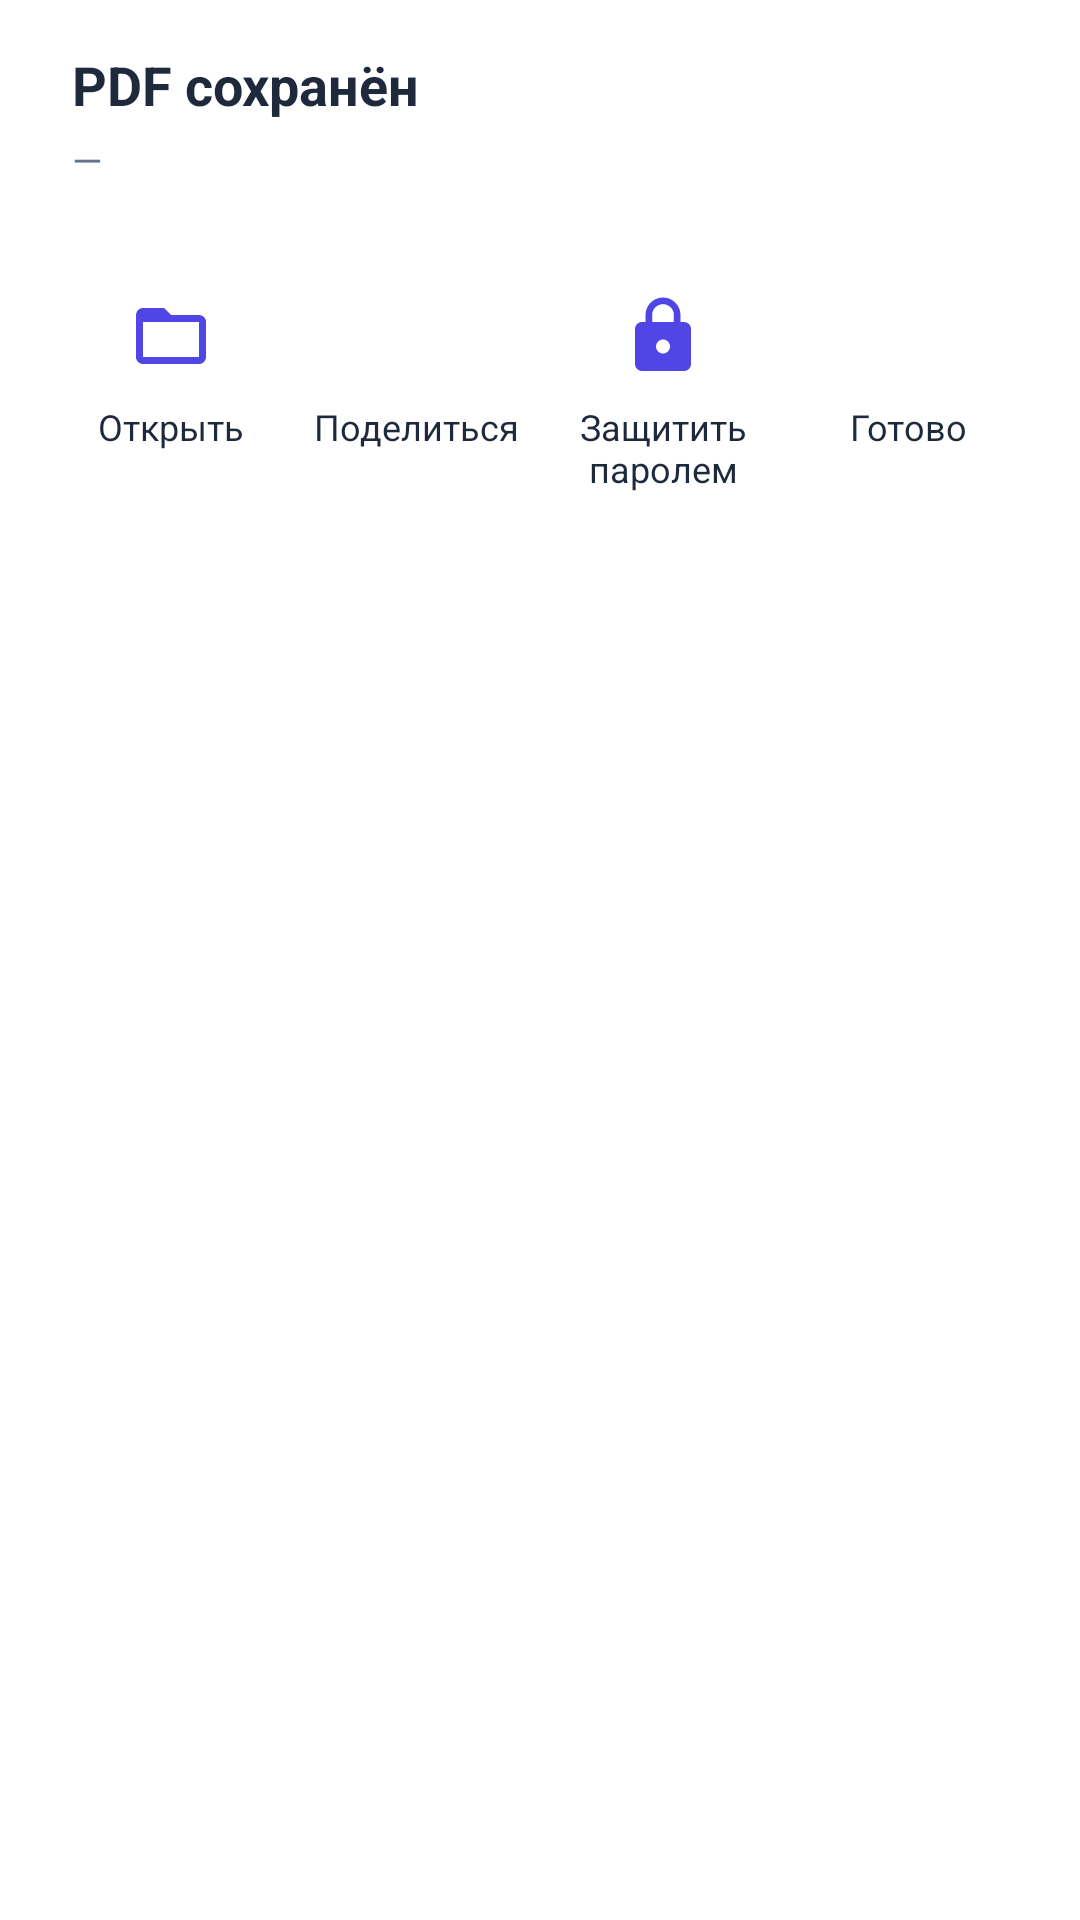

Icons on this 1080 × 1920 Android screen, each with its box as region(x1, y1, x2, y2):
folder open: region(136, 308, 206, 364)
lock protect: region(635, 297, 691, 371)
